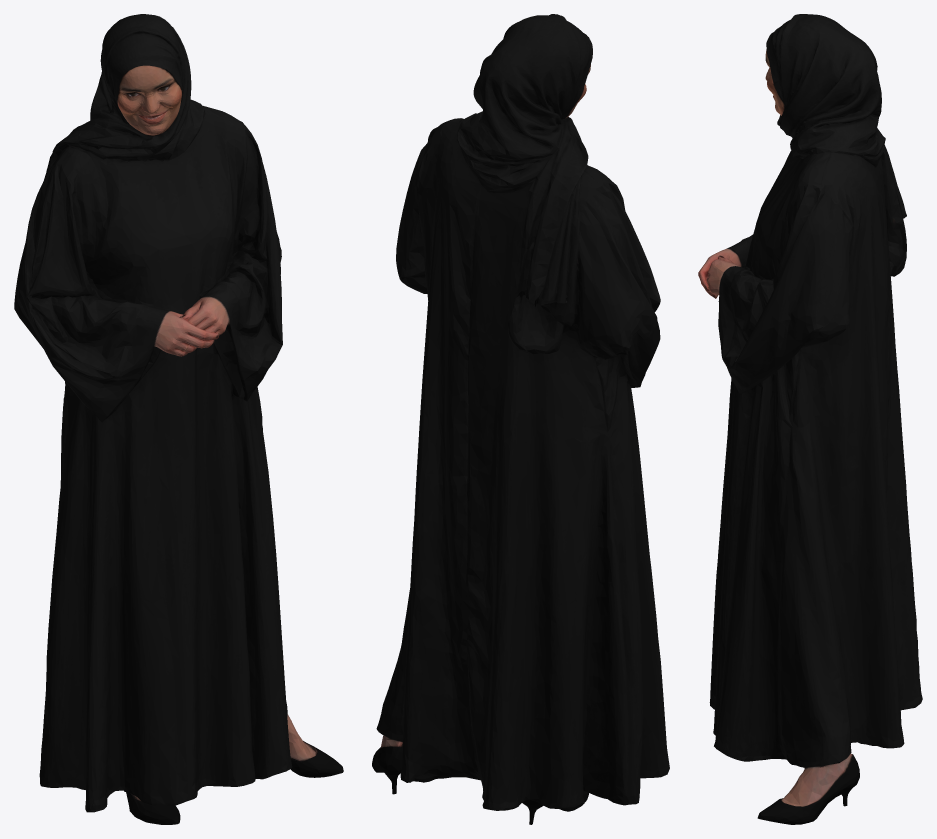
File: Posed Arab Woman Standing - Humano 085-6192.fbx
3 views of the same model, side by side, from view 1: azimuth 30°, elevation 25°; view 2: azimuth 150°, elevation 25°; view 3: azimuth 270°, elevation 25° (orthographic). The views are drawn at different scales.
Visible parts, largest first — view 1: Posed Arab Woman Standing - Humano 085-6192; view 2: Posed Arab Woman Standing - Humano 085-6192; view 3: Posed Arab Woman Standing - Humano 085-6192.
Part boxes in pixels (x1=…): Posed Arab Woman Standing - Humano 085-6192: x1=14, y1=14, x2=343, y2=824; Posed Arab Woman Standing - Humano 085-6192: x1=372, y1=14, x2=669, y2=824; Posed Arab Woman Standing - Humano 085-6192: x1=698, y1=14, x2=922, y2=824.
Bounding box in the file's own units: 0.7068 × 1.81 × 0.5062.
1 material, 1 textured.
